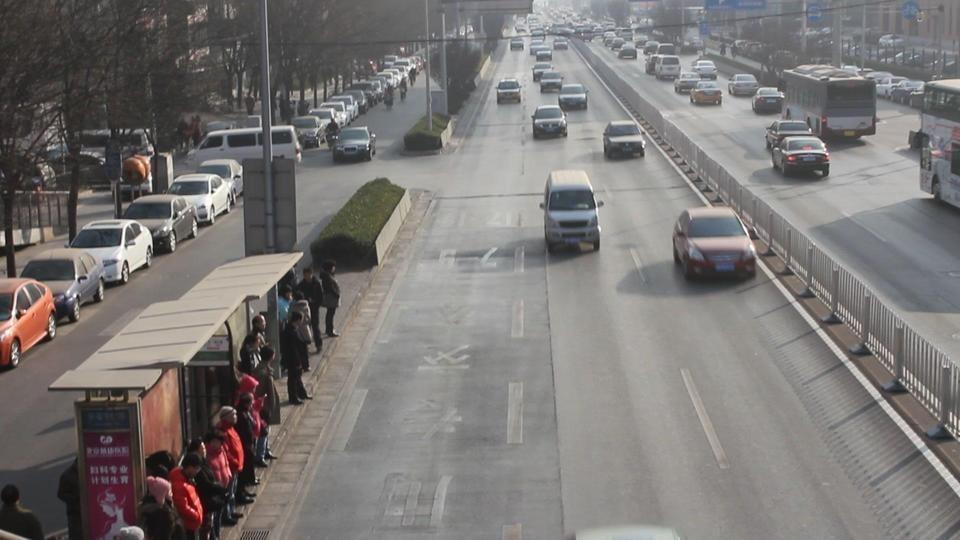car: (672, 206, 757, 282), (18, 251, 106, 324), (66, 219, 153, 286), (540, 169, 605, 255), (0, 279, 57, 373), (121, 194, 198, 254), (168, 173, 228, 224), (772, 135, 831, 180), (193, 157, 245, 204), (331, 126, 377, 164), (603, 121, 646, 160), (765, 119, 812, 152), (530, 105, 568, 138), (752, 87, 785, 114), (889, 79, 923, 104), (559, 83, 589, 111), (690, 83, 723, 106), (495, 78, 523, 105), (729, 73, 759, 98), (536, 68, 563, 93), (675, 72, 701, 95)
